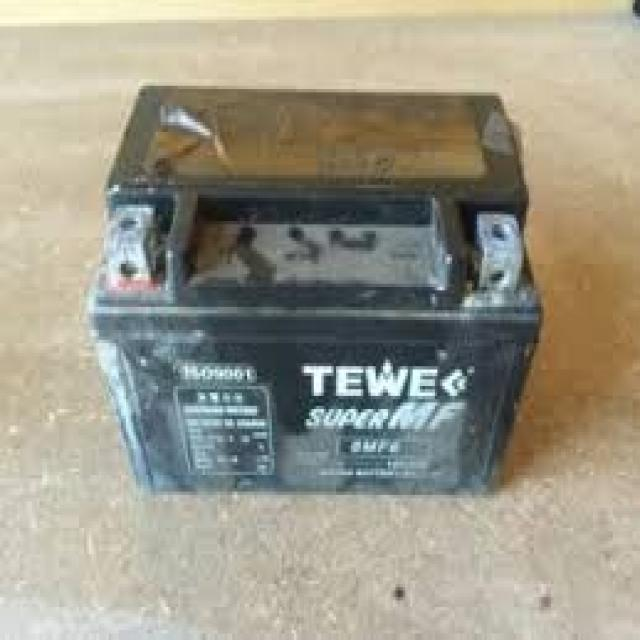battery: (91, 78, 548, 497)
